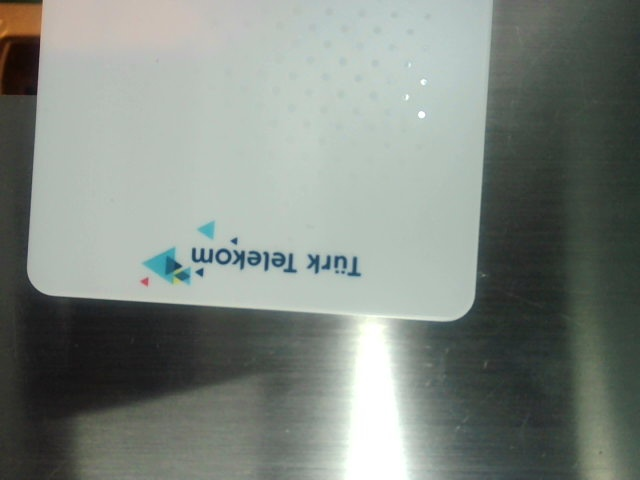AQ_TURKTelekom: (132, 215, 367, 305)
